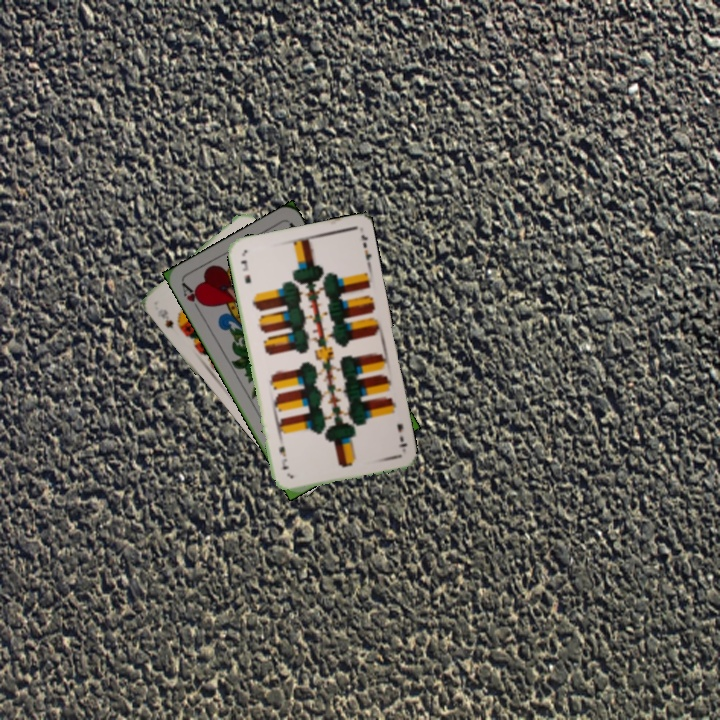E7: (393, 420, 410, 450), (237, 256, 253, 286)
HA: (178, 279, 207, 316)
S9: (153, 305, 176, 331)
